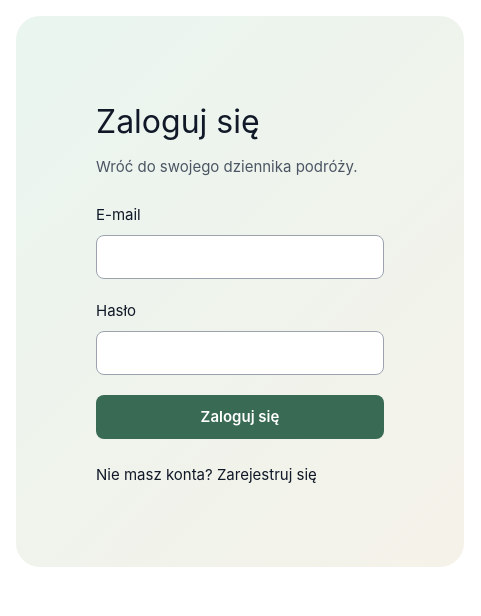
LoginView › rejects invalid email before submitting
In the field with id "email": (240, 257) [96, 235, 384, 279], type "not-an-email"
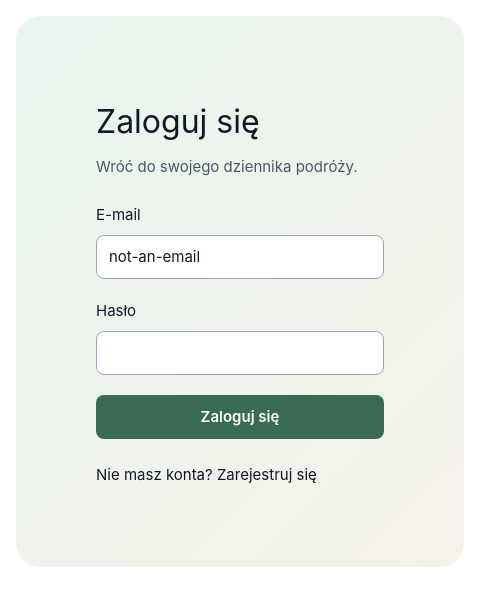
In the password field labelled "Hasło": (240, 353) [96, 331, 384, 375], type "Secret123!"
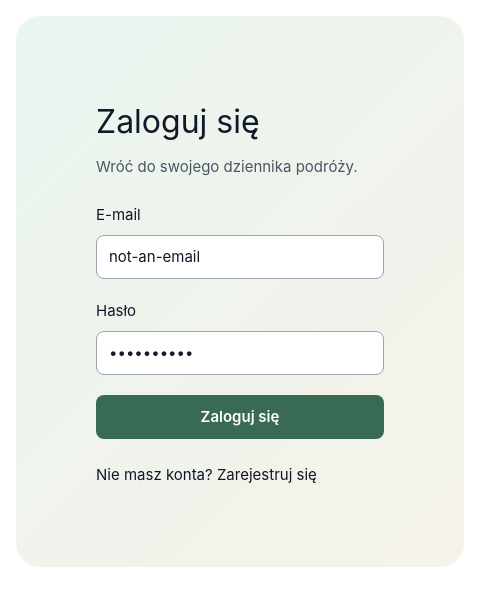
Submit the form, box [96, 203, 384, 439]
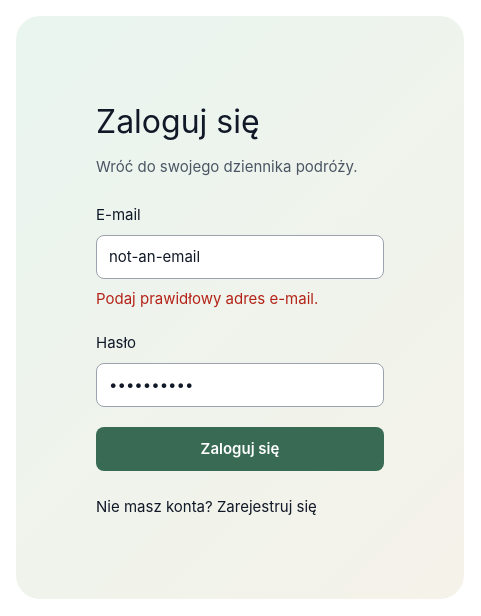
Now the text "Podaj prawidłowy adres e-mail." is shown, box [96, 289, 318, 308]
